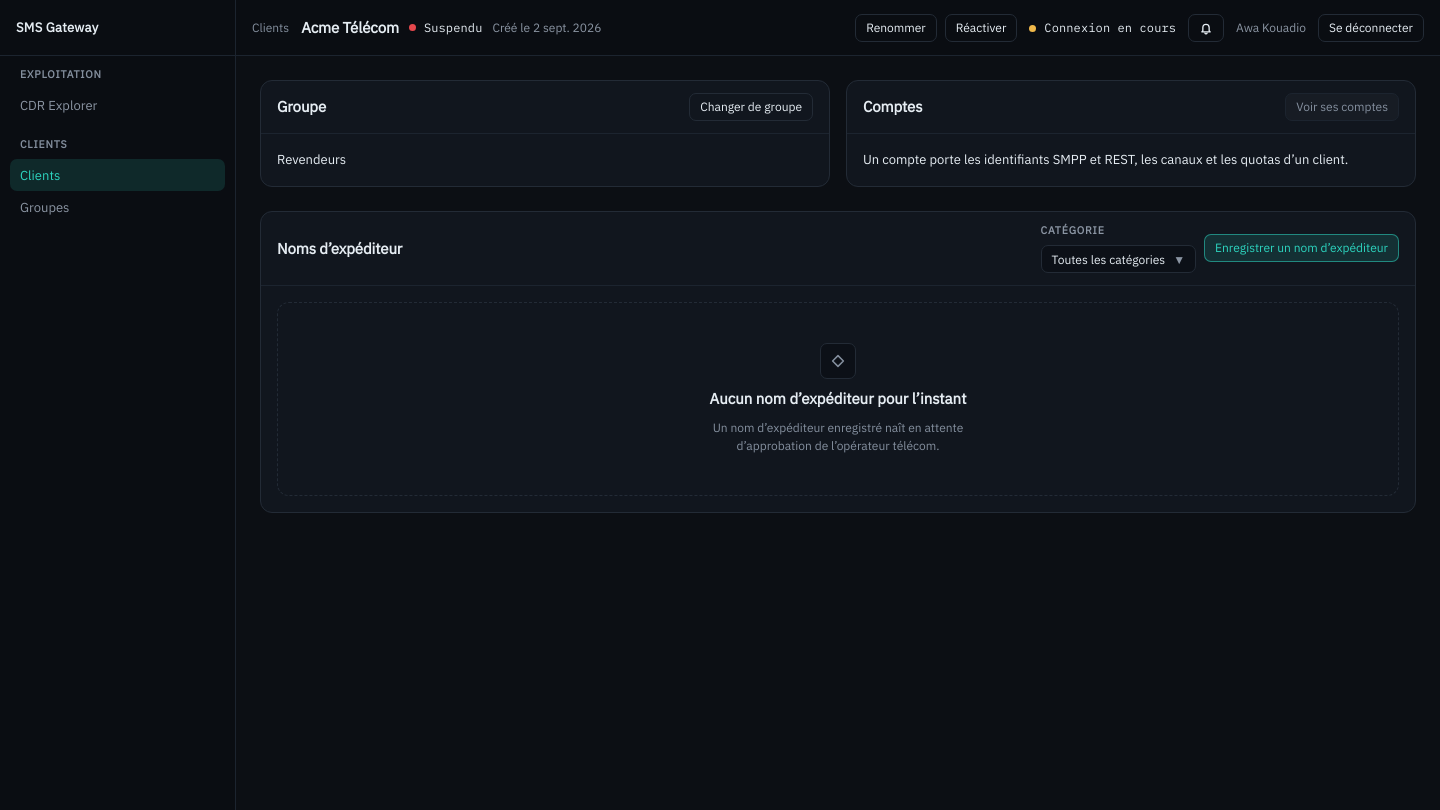
Test: the customer screen › says the accounts stay suspended before reactivating the customer
Click the button "Réactiver": (981, 28) top-left (945, 14), bottom-right (1017, 42)
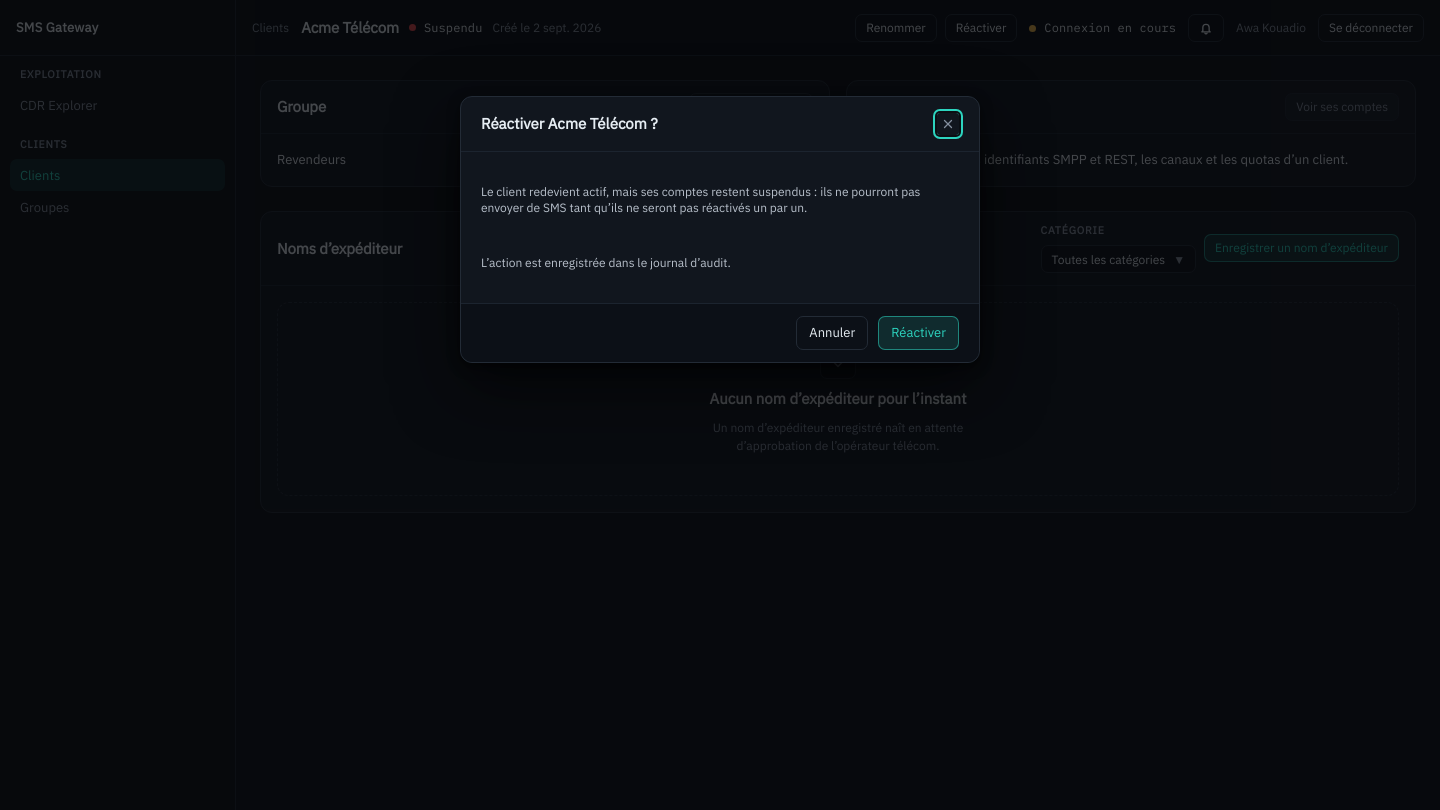
Click the button "Réactiver": (919, 333) top-left (878, 316), bottom-right (959, 350)
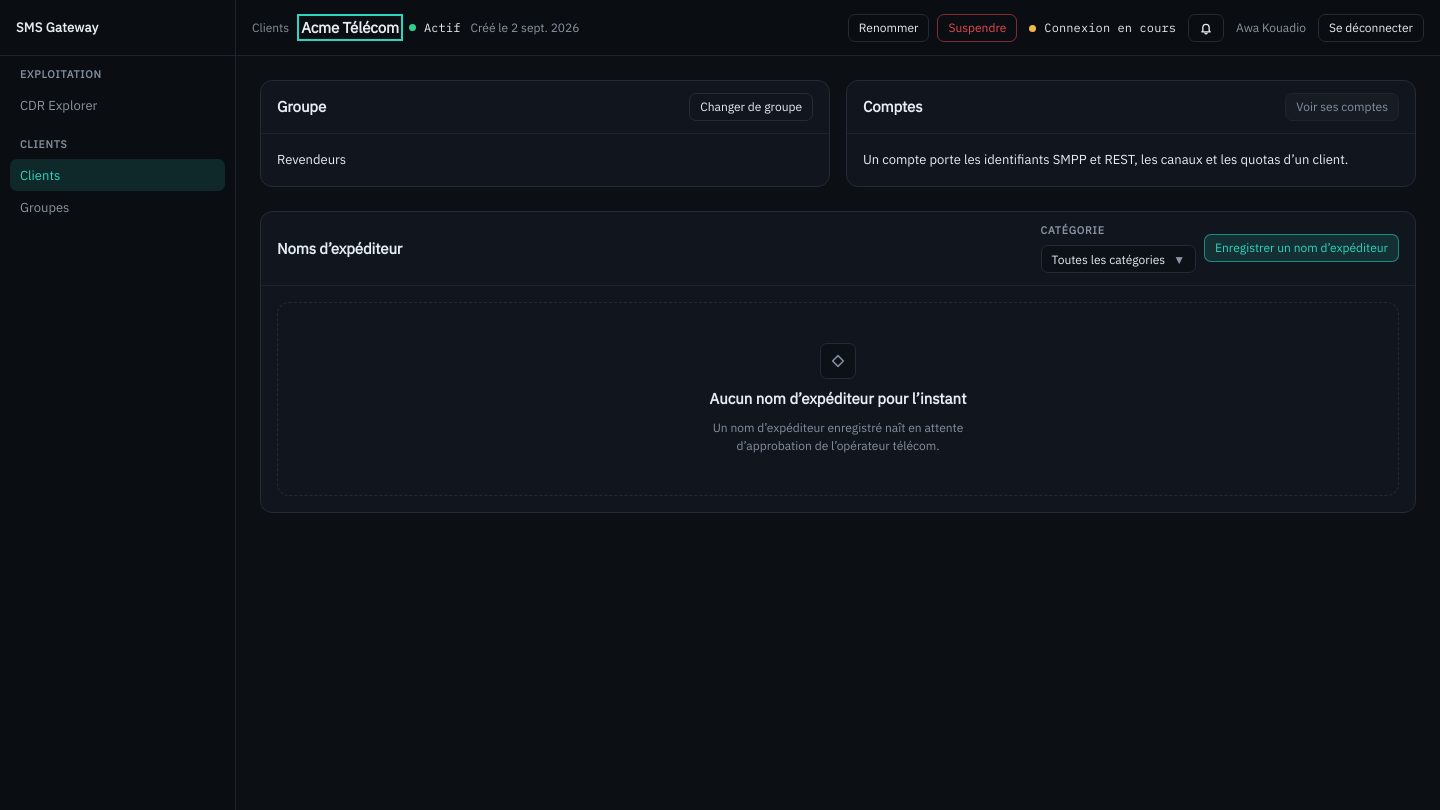
expect the button "Suspendre" is shown: met, box top-left (937, 14), bottom-right (1017, 42)
